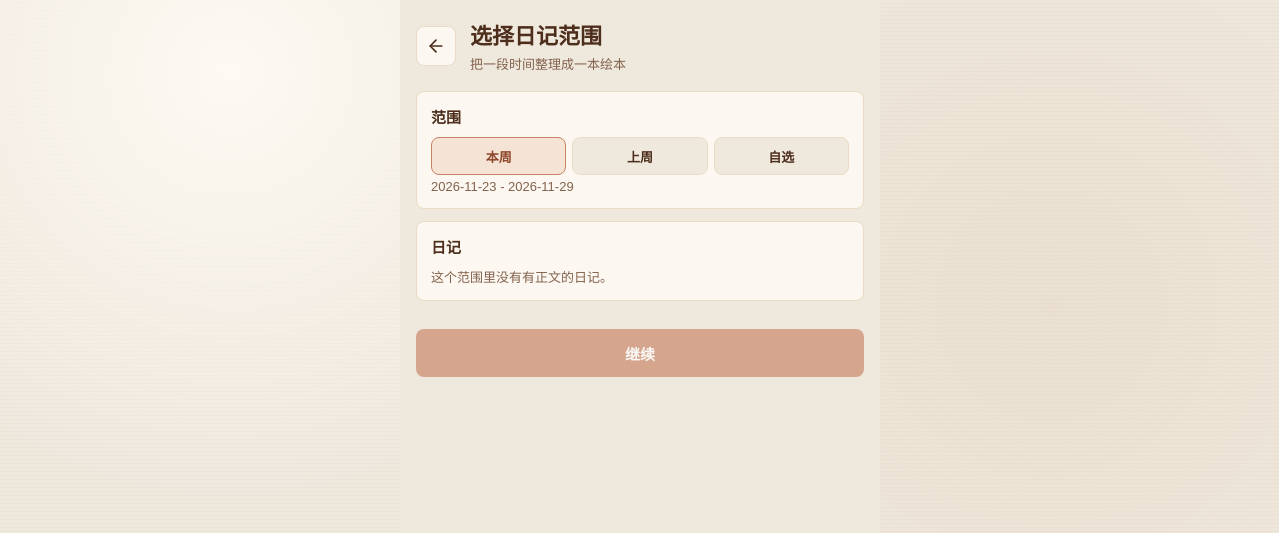
it: TimeStoryWizard › keeps continue disabled when a custom range is invalid
Click the button "自选" at (781, 156), box x1=714 y1=137 x2=849 y2=175
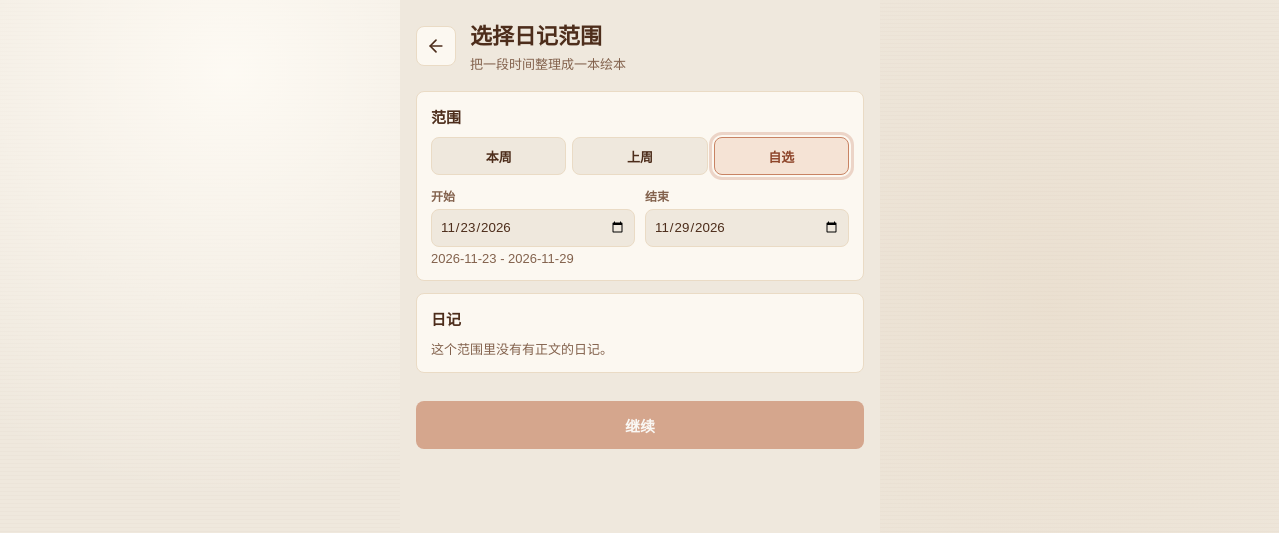
Clear the date field labelled "开始" at (533, 228), box x1=431 y1=209 x2=635 y2=247
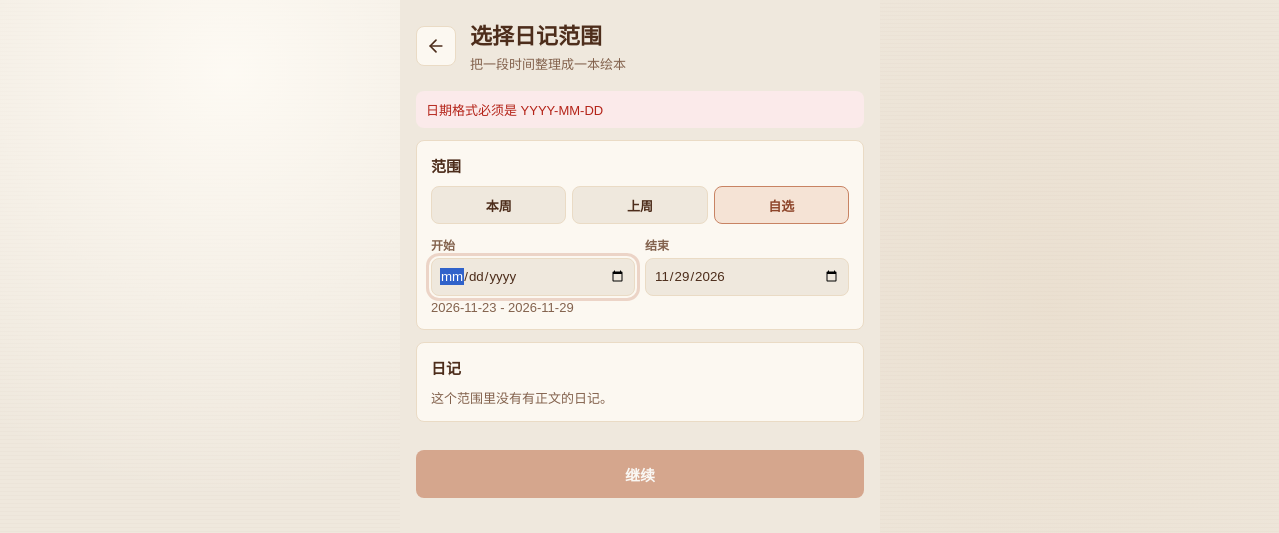
Type "2026-08-10" into the date field labelled "开始" at (533, 277), box x1=431 y1=258 x2=635 y2=296
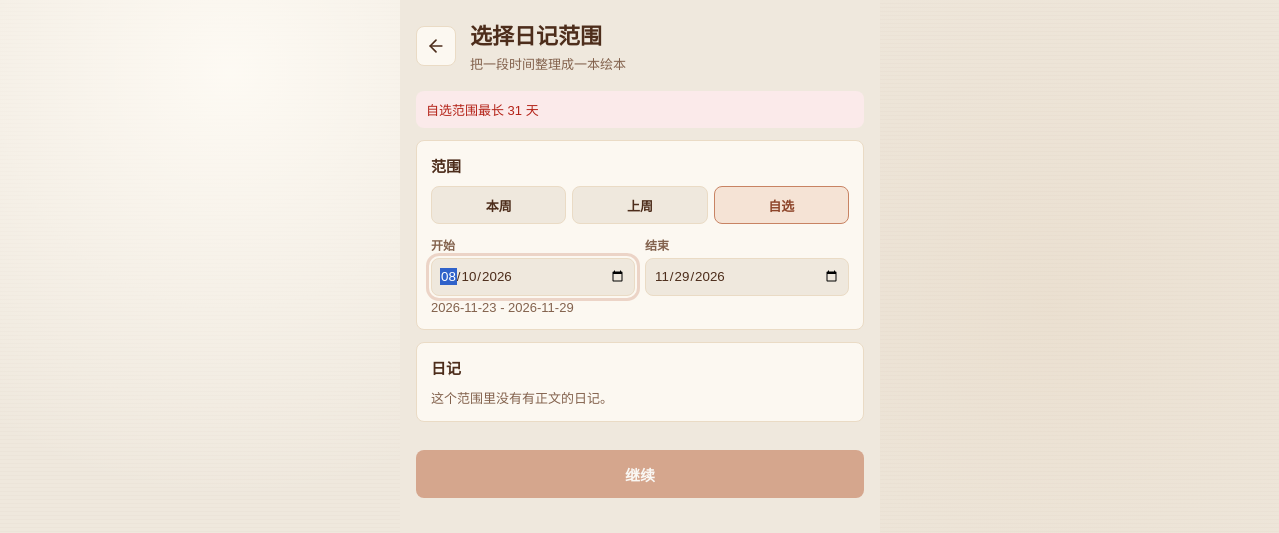
Type "2026-08-03" into the date field labelled "结束" at (747, 277), box x1=645 y1=258 x2=849 y2=296
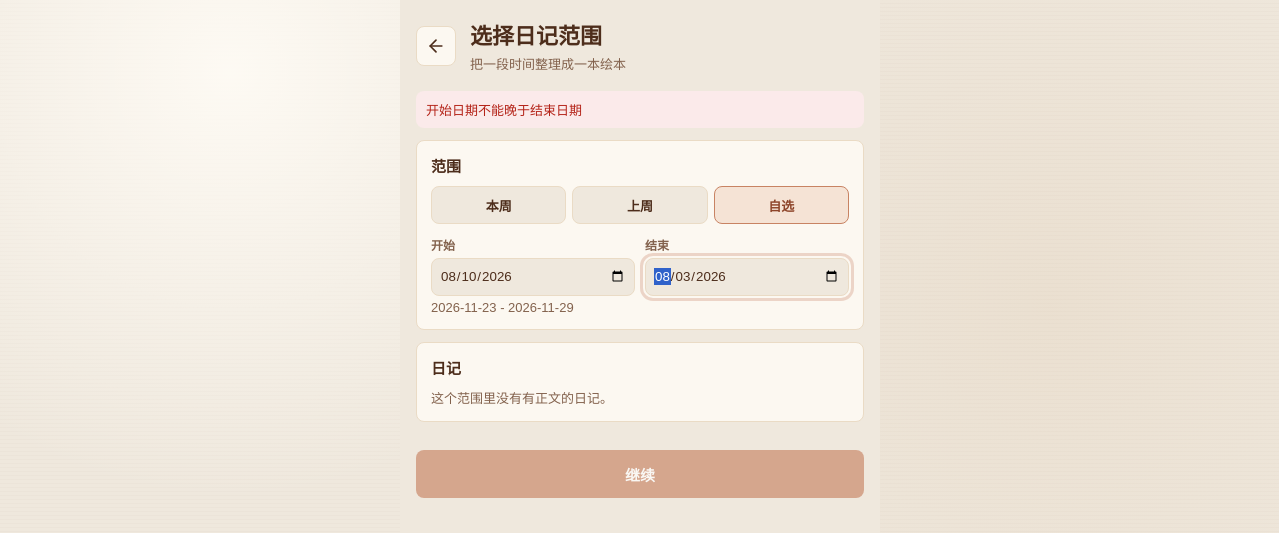
Check: the button "继续" is disabled, box x1=416 y1=450 x2=864 y2=498
Check: the message reads "开始日期不能晚于结束日期", box x1=426 y1=103 x2=582 y2=118
